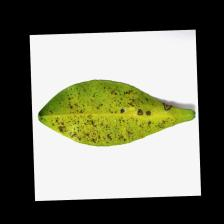canker: (104, 92, 174, 129)
